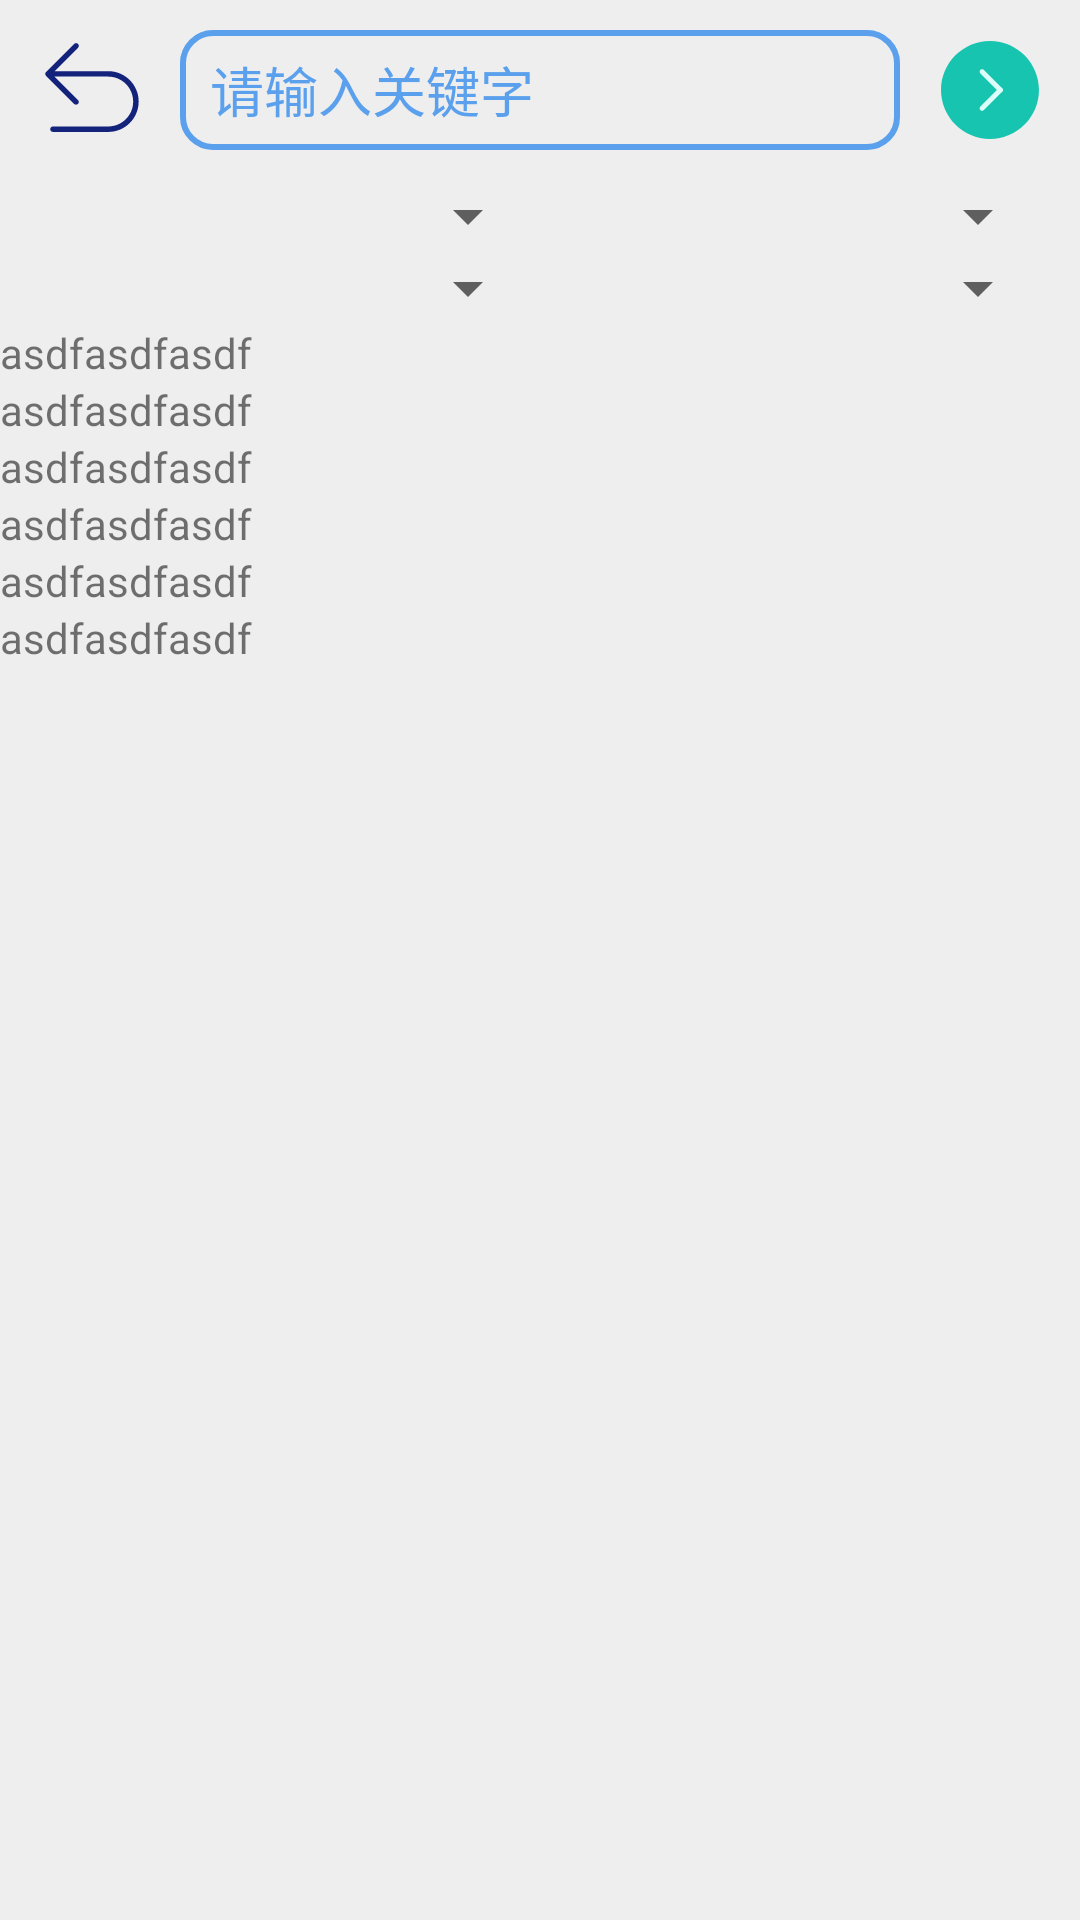

Icons on this 1080*1920 Android screen, each with the point to tap as (x=x, y=y):
arrow: (x=990, y=90)
back: (x=92, y=87)
